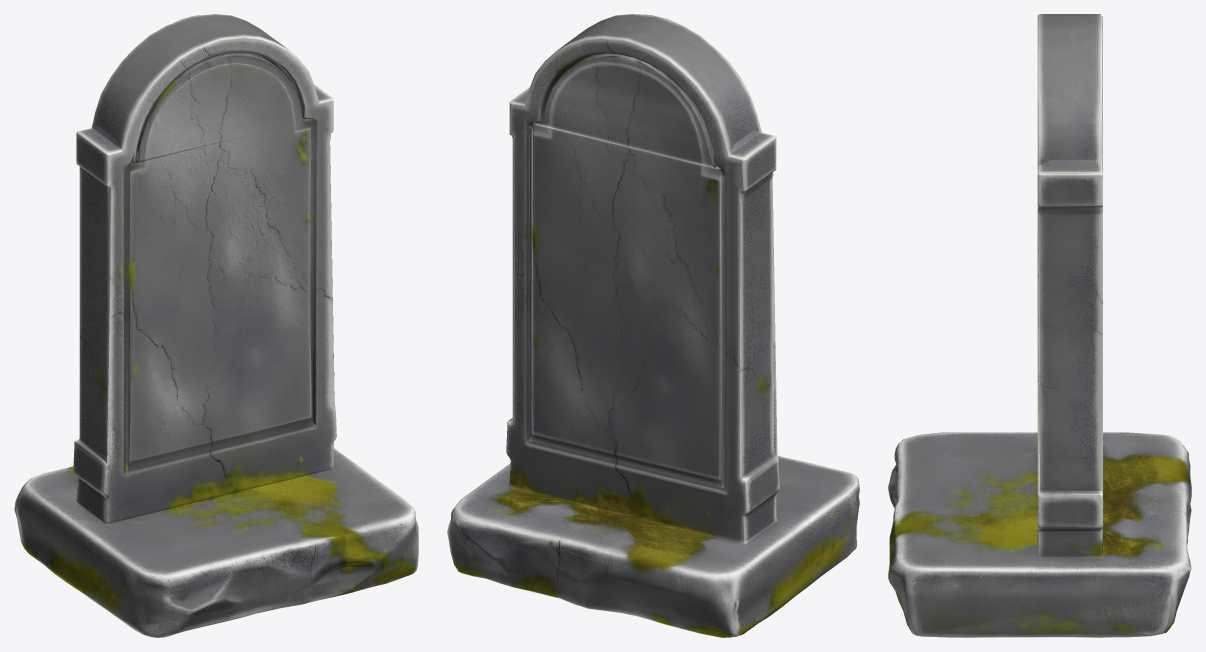
Rendered from grave_headstone_plain.glb.
3 renders of one model, left to right at view 1: azimuth 30°, elevation 25°; view 2: azimuth 150°, elevation 25°; view 3: azimuth 270°, elevation 25°, orthographic. The views are drawn at different scales.
Bounding box in the file's own units: 1.12 × 2 × 1.01.
Materials: 1 (1 with a texture image).
